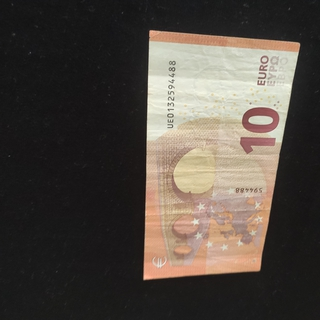10EUROBack: (141, 29, 300, 280)
